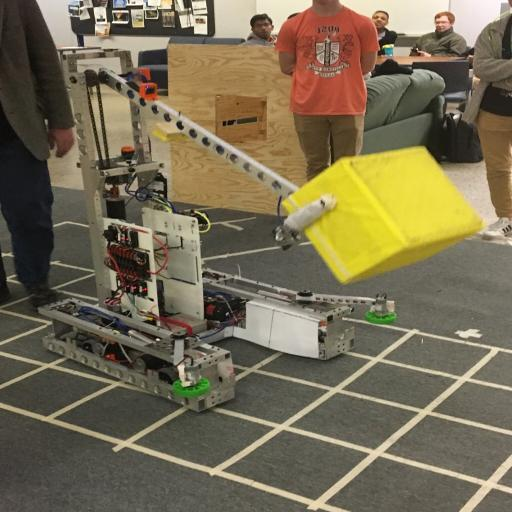robot: (36, 40, 398, 414)
